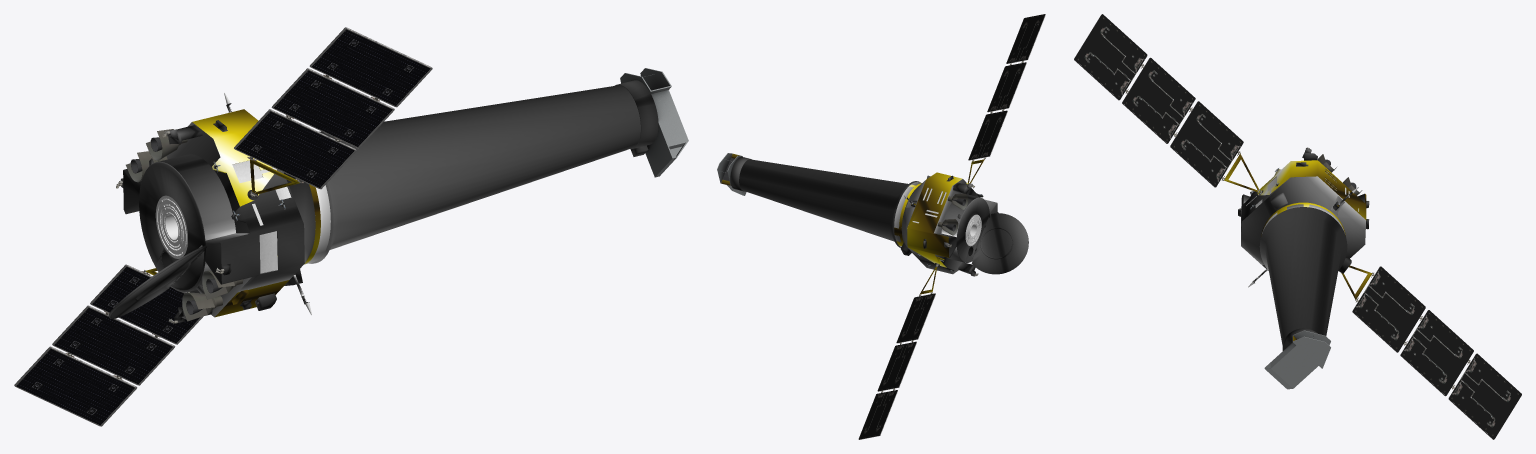
The model's file is chandra.glb.
3 renders of one model, left to right at view 1: azimuth 30°, elevation 25°; view 2: azimuth 150°, elevation 25°; view 3: azimuth 270°, elevation 25°, orthographic. The views are drawn at different scales.
Parts seen in each view (by area): view 1: foil_silver, shiny_panel, tex_01, foil_gold, AO_HRMA; view 2: foil_silver, tex_01, foil_gold, AO_HRMA; view 3: tex_01, foil_silver, foil_gold.
Part boxes in pixels (x1,y1,x2,y2): foil_silver: [108, 80, 658, 323]; shiny_panel: [14, 28, 432, 426]; tex_01: [14, 27, 688, 426]; foil_gold: [146, 109, 320, 317]; AO_HRMA: [155, 195, 187, 258]; foil_silver: [730, 157, 1028, 276]; tex_01: [717, 14, 1045, 439]; foil_gold: [721, 154, 984, 294]; AO_HRMA: [965, 214, 981, 246]; tex_01: [1074, 14, 1521, 439]; foil_silver: [1238, 148, 1369, 350]; foil_gold: [1224, 154, 1372, 340].
Bounding box in the file's own units: 70.64 × 75.39 × 75.39.
5 materials, 4 textured.
